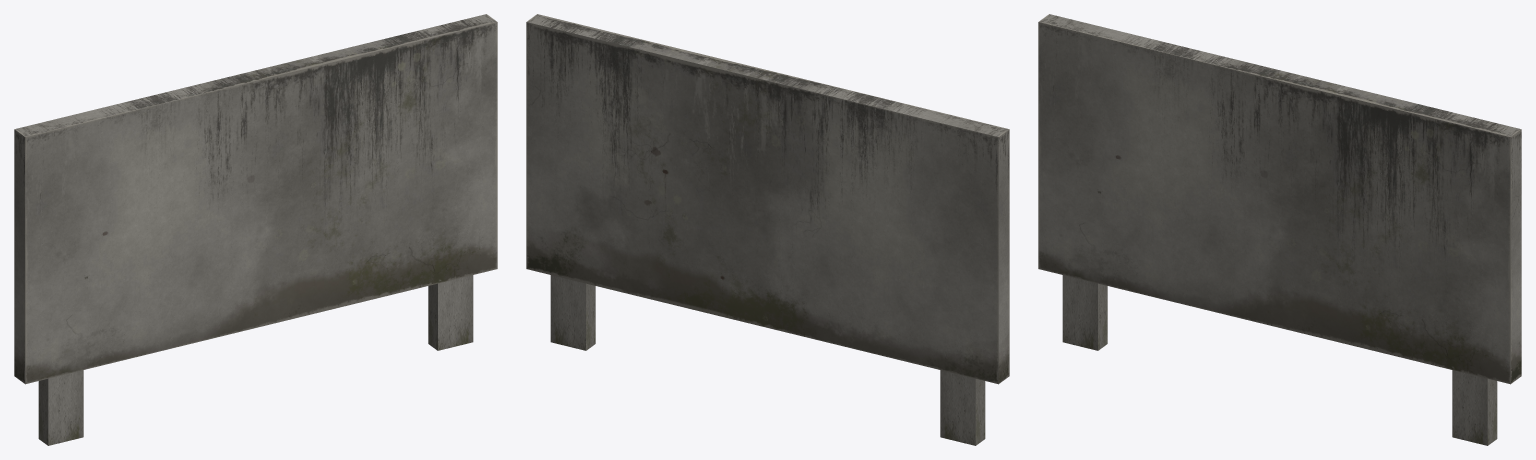
Rendered from fence_po2_A_web.glb.
The picture shows the model from 3 angles, left to right: view 1: azimuth 30°, elevation 25°; view 2: azimuth 150°, elevation 25°; view 3: azimuth 330°, elevation 25°; orthographic projection.
Visible parts, largest first — view 1: FencePO2_A; view 2: FencePO2_A; view 3: FencePO2_A.
Part boxes in pixels (<box>): FencePO2_A: <box>14,14,497,445</box>; FencePO2_A: <box>526,14,1009,445</box>; FencePO2_A: <box>1038,14,1521,445</box>.
Bounding box in the file's own units: 4 × 2.55 × 0.1599.
Materials: 1 (1 with a texture image).
